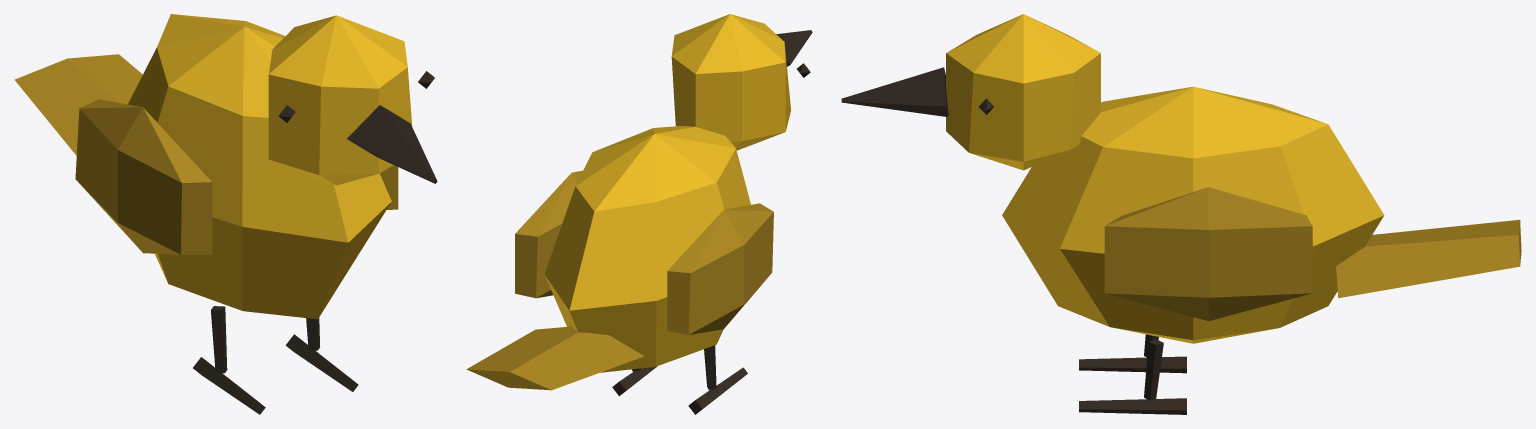
Rendered from trail-bird.fbx.
3 views of the same model, side by side, from view 1: azimuth 30°, elevation 25°; view 2: azimuth 150°, elevation 25°; view 3: azimuth 270°, elevation 25° (orthographic). The views are drawn at different scales.
Visible parts, largest first — view 1: TrailBird; view 2: TrailBird; view 3: TrailBird.
Boxes of the visible parts, x1=… form: TrailBird: x1=14, y1=14, x2=437, y2=414; TrailBird: x1=466, y1=14, x2=812, y2=414; TrailBird: x1=841, y1=14, x2=1521, y2=414.
Size of the model in its own units: 0.0804 by 0.136 by 0.2205.
